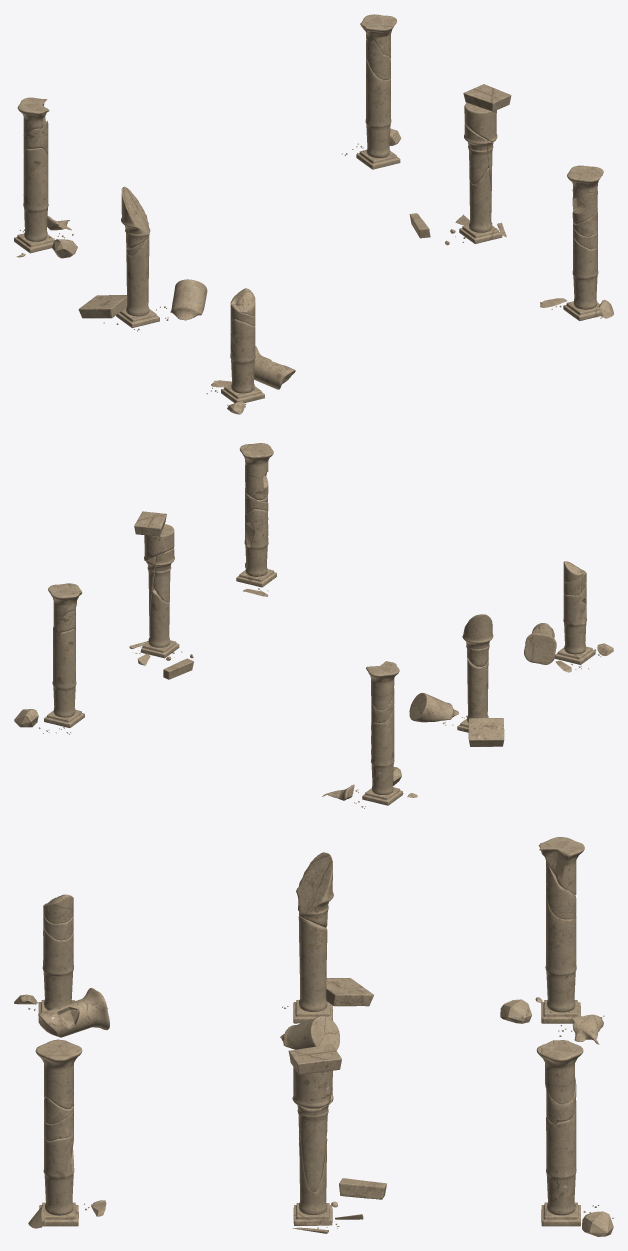
3 renders of one model, top to bottom at view 1: azimuth 30°, elevation 25°; view 2: azimuth 150°, elevation 25°; view 3: azimuth 270°, elevation 25°, orthographic. The views are drawn at different scales.
Visible parts, largest first — view 1: Column_B01, Column_E01, Column_C01, Column_F01, Column_D01, Column_A01; view 2: Column_B01, Column_E01, Column_C01, Column_D01, Column_A01, Column_F01; view 3: Column_B01, Column_C01, Column_E01, Column_D01, Column_F01, Column_A01.
Part boxes in pixels (x1,y1,x2,y2): Column_B01: [78, 186, 207, 331]; Column_E01: [409, 84, 511, 245]; Column_C01: [14, 97, 77, 258]; Column_F01: [540, 165, 613, 320]; Column_D01: [342, 14, 401, 169]; Column_A01: [206, 288, 295, 414]; Column_B01: [409, 614, 504, 746]; Column_E01: [129, 511, 193, 679]; Column_C01: [322, 661, 417, 808]; Column_D01: [14, 583, 84, 734]; Column_A01: [524, 561, 613, 672]; Column_F01: [236, 443, 276, 596]; Column_B01: [280, 852, 373, 1050]; Column_C01: [500, 837, 604, 1044]; Column_E01: [288, 1044, 386, 1233]; Column_D01: [536, 1040, 613, 1236]; Column_F01: [28, 1039, 106, 1228]; Column_A01: [14, 894, 109, 1037].
Bounding box in the file's own units: 26.36 × 8.4 × 26.73.
6 materials, 6 textured.
